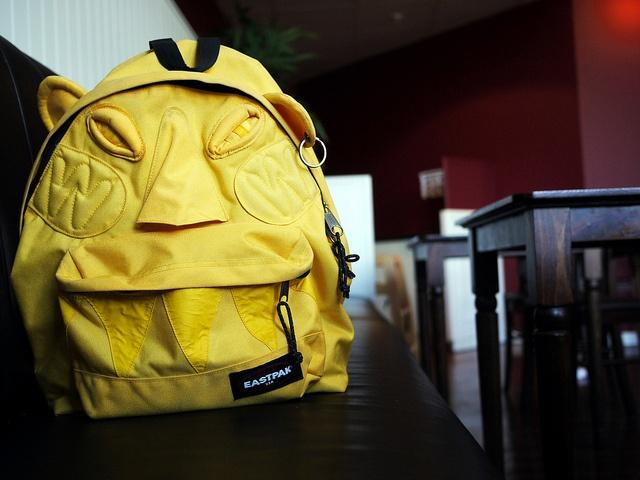Meja: (458, 184, 639, 479)
